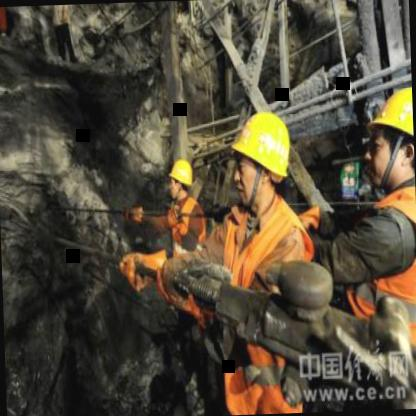helmet: (232, 107, 300, 210), (365, 82, 415, 190), (166, 155, 197, 207)
